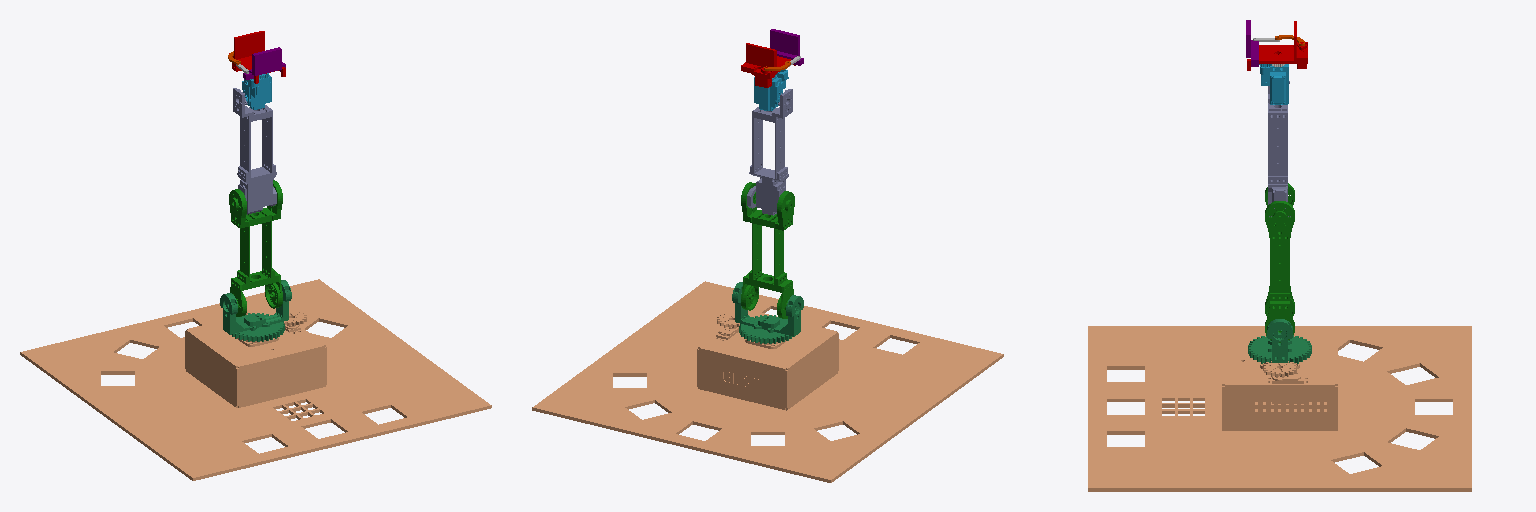
The robot description file, URDF, robot "Manip":
<?xml version="1.0" encoding="utf-8"?>
<!-- This URDF was automatically created by SolidWorks to URDF Exporter! Originally created by [author] ([email redacted]) 
     Commit Version: 1.5.1-0-g916b5db  Build Version: 1.5.7152.31018
     For more information, please see http://wiki.ros.org/sw_urdf_exporter -->
<robot
  name="Manip">
  <link
    name="base_link">
    <inertial>
      <origin
        xyz="-0.028965 0.014648 0.018056"
        rpy="0 0 0" />
      <mass
        value="10.281" />
      <inertia
        ixx="0.1796"
        ixy="-1.2096E-08"
        ixz="-1.3275E-05"
        iyy="0.37335"
        iyz="-1.3791E-06"
        izz="0.19457" />
    </inertial>
    <visual>
      <origin
        xyz="0 0 0"
        rpy="0 0 0" />
      <geometry>
        <mesh
          filename="package://Manip/meshes/base_link.STL" />
      </geometry>
      <material
        name="">
        <color
          rgba="0.8902 0.66667 0.50196 1" />
      </material>
    </visual>
    <collision>
      <origin
        xyz="0 0 0"
        rpy="0 0 0" />
      <geometry>
        <mesh
          filename="package://Manip/meshes/base_link.STL" />
      </geometry>
    </collision>
  </link>
  <link
    name="Joint_0">
    <inertial>
      <origin
        xyz="-0.000934 0.024546 -0.000934"
        rpy="0 0 0" />
      <mass
        value="0.63473" />
      <inertia
        ixx="0.00031172"
        ixy="-2.8505E-06"
        ixz="-0.00013487"
        iyy="0.00055107"
        iyz="-2.8505E-06"
        izz="0.00031172" />
    </inertial>
    <visual>
      <origin
        xyz="0 0 0"
        rpy="0 0 0" />
      <geometry>
        <mesh
          filename="package://Manip/meshes/Joint_0.STL" />
      </geometry>
      <material
        name="">
        <color
          rgba="0.18039 0.54118 0.34118 1" />
      </material>
    </visual>
    <collision>
      <origin
        xyz="0 0 0"
        rpy="0 0 0" />
      <geometry>
        <mesh
          filename="package://Manip/meshes/Joint_0.STL" />
      </geometry>
    </collision>
  </link>
  <joint
    name="Joint_0"
    type="revolute">
    <origin
      xyz="-0.030548 -0.017972 0.076858"
      rpy="1.5708 0 0.7854" />
    <parent
      link="base_link" />
    <child
      link="Joint_0" />
    <axis
      xyz="0 0 0" />
    <limit
      lower="0"
      upper="0"
      effort="0"
      velocity="0" />
  </joint>
  <link
    name="Joint_1">
    <inertial>
      <origin
        xyz="0.0805 0.033124 -4.8711E-15"
        rpy="0 0 0" />
      <mass
        value="0.54478" />
      <inertia
        ixx="9.408E-05"
        ixy="-4.8965E-19"
        ixz="-7.5425E-18"
        iyy="0.00020106"
        iyz="-4.0146E-20"
        izz="0.00020704" />
    </inertial>
    <visual>
      <origin
        xyz="0 0 0"
        rpy="0 0 0" />
      <geometry>
        <mesh
          filename="package://Manip/meshes/Joint_1.STL" />
      </geometry>
      <material
        name="">
        <color
          rgba="0.12941 0.54118 0.12941 1" />
      </material>
    </visual>
    <collision>
      <origin
        xyz="0 0 0"
        rpy="0 0 0" />
      <geometry>
        <mesh
          filename="package://Manip/meshes/Joint_1.STL" />
      </geometry>
    </collision>
  </link>
  <joint
    name="Joint_1"
    type="revolute">
    <origin
      xyz="0.024005 0.0597 0.024005"
      rpy="-0.7854 0 1.5708" />
    <parent
      link="Joint_0" />
    <child
      link="Joint_1" />
    <axis
      xyz="0 0 0" />
    <limit
      lower="0"
      upper="0"
      effort="0"
      velocity="0" />
  </joint>
  <link
    name="Joint_2">
    <inertial>
      <origin
        xyz="-0.03852 0.012612 0.00028682"
        rpy="0 0 0" />
      <mass
        value="0.66962" />
      <inertia
        ixx="0.00013342"
        ixy="-3.3499E-06"
        ixz="2.1416E-05"
        iyy="0.00032933"
        iyz="-3.4326E-06"
        izz="0.00026422" />
    </inertial>
    <visual>
      <origin
        xyz="0 0 0"
        rpy="0 0 0" />
      <geometry>
        <mesh
          filename="package://Manip/meshes/Joint_2.STL" />
      </geometry>
      <material
        name="">
        <color
          rgba="0.5098 0.52157 0.63922 1" />
      </material>
    </visual>
    <collision>
      <origin
        xyz="0 0 0"
        rpy="0 0 0" />
      <geometry>
        <mesh
          filename="package://Manip/meshes/Joint_2.STL" />
      </geometry>
    </collision>
  </link>
  <joint
    name="Joint_2"
    type="revolute">
    <origin
      xyz="0.17088 0.036825 -0.01"
      rpy="1.5708 0 3.1416" />
    <parent
      link="Joint_1" />
    <child
      link="Joint_2" />
    <axis
      xyz="0 0 0" />
    <limit
      lower="0"
      upper="0"
      effort="0"
      velocity="0" />
  </joint>
  <link
    name="Joint_3">
    <inertial>
      <origin
        xyz="0.002424 -0.006919 0.0073683"
        rpy="0 0 0" />
      <mass
        value="0.37409" />
      <inertia
        ixx="9.8668E-05"
        ixy="-1.3865E-06"
        ixz="5.0862E-06"
        iyy="7.8881E-05"
        iyz="7.0671E-07"
        izz="5.4051E-05" />
    </inertial>
    <visual>
      <origin
        xyz="0 0 0"
        rpy="0 0 0" />
      <geometry>
        <mesh
          filename="package://Manip/meshes/Joint_3.STL" />
      </geometry>
      <material
        name="">
        <color
          rgba="0.18431 0.62353 0.76471 1" />
      </material>
    </visual>
    <collision>
      <origin
        xyz="0 0 0"
        rpy="0 0 0" />
      <geometry>
        <mesh
          filename="package://Manip/meshes/Joint_3.STL" />
      </geometry>
    </collision>
  </link>
  <joint
    name="Joint_3"
    type="revolute">
    <origin
      xyz="-0.17527 0.0125 0.00445"
      rpy="1.5708 0 1.5708" />
    <parent
      link="Joint_2" />
    <child
      link="Joint_3" />
    <axis
      xyz="0 0 0" />
    <limit
      lower="0"
      upper="0"
      effort="0"
      velocity="0" />
  </joint>
  <link
    name="Joint_4">
    <inertial>
      <origin
        xyz="-1.249E-16 3.4694E-18 0.0025"
        rpy="0 0 0" />
      <mass
        value="0.0055526" />
      <inertia
        ixx="1.2773E-07"
        ixy="-2.4068E-22"
        ixz="-5.156E-21"
        iyy="1.2773E-07"
        iyz="2.9995E-22"
        izz="2.3232E-07" />
    </inertial>
    <visual>
      <origin
        xyz="0 0 0"
        rpy="0 0 0" />
      <geometry>
        <mesh
          filename="package://Manip/meshes/Joint_4.STL" />
      </geometry>
      <material
        name="">
        <color
          rgba="0.87843 0.87451 0.85882 1" />
      </material>
    </visual>
    <collision>
      <origin
        xyz="0 0 0"
        rpy="0 0 0" />
      <geometry>
        <mesh
          filename="package://Manip/meshes/Joint_4.STL" />
      </geometry>
    </collision>
  </link>
  <joint
    name="Joint_4"
    type="revolute">
    <origin
      xyz="0 -0.0075 -0.0175"
      rpy="3.1416 0 -1.5708" />
    <parent
      link="Joint_3" />
    <child
      link="Joint_4" />
    <axis
      xyz="0 0 0" />
    <limit
      lower="0"
      upper="0"
      effort="0"
      velocity="0" />
  </joint>
  <link
    name="gripper">
    <inertial>
      <origin
        xyz="-0.0014007 -0.00041743 0.012432"
        rpy="0 0 0" />
      <mass
        value="0.25253" />
      <inertia
        ixx="6.1541E-05"
        ixy="-1.0057E-06"
        ixz="-3.2368E-06"
        iyy="9.5516E-05"
        iyz="-5.8464E-07"
        izz="5.2584E-05" />
    </inertial>
    <visual>
      <origin
        xyz="0 0 0"
        rpy="0 0 0" />
      <geometry>
        <mesh
          filename="package://Manip/meshes/gripper.STL" />
      </geometry>
      <material
        name="">
        <color
          rgba="0.8 0 0 1" />
      </material>
    </visual>
    <collision>
      <origin
        xyz="0 0 0"
        rpy="0 0 0" />
      <geometry>
        <mesh
          filename="package://Manip/meshes/gripper.STL" />
      </geometry>
    </collision>
  </link>
  <joint
    name="gripper"
    type="revolute">
    <origin
      xyz="0 0 0.017"
      rpy="-1.5708 0 0" />
    <parent
      link="Joint_4" />
    <child
      link="gripper" />
    <axis
      xyz="0 0 0" />
    <limit
      lower="0"
      upper="0"
      effort="0"
      velocity="0" />
  </joint>
  <link
    name="GR_Joint_0">
    <inertial>
      <origin
        xyz="-0.0061104 0.0015 -0.018"
        rpy="0 0 0" />
      <mass
        value="0.0073334" />
      <inertia
        ixx="1.1684E-06"
        ixy="6.035E-21"
        ixz="2.3558E-21"
        iyy="1.3047E-06"
        iyz="2.9541E-20"
        izz="1.4727E-07" />
    </inertial>
    <visual>
      <origin
        xyz="0 0 0"
        rpy="0 0 0" />
      <geometry>
        <mesh
          filename="package://Manip/meshes/GR_Joint_0.STL" />
      </geometry>
      <material
        name="">
        <color
          rgba="0.81176 0.3098 0 1" />
      </material>
    </visual>
    <collision>
      <origin
        xyz="0 0 0"
        rpy="0 0 0" />
      <geometry>
        <mesh
          filename="package://Manip/meshes/GR_Joint_0.STL" />
      </geometry>
    </collision>
  </link>
  <joint
    name="GR_Joint_0"
    type="revolute">
    <origin
      xyz="-0.014116 -0.00755 0.031158"
      rpy="0 0.52343 0" />
    <parent
      link="gripper" />
    <child
      link="GR_Joint_0" />
    <axis
      xyz="0 0 0" />
    <limit
      lower="0"
      upper="0"
      effort="0"
      velocity="0" />
  </joint>
  <link
    name="GR_Joint_1">
    <inertial>
      <origin
        xyz="6.9389E-17 0.0015 -6.9389E-17"
        rpy="0 0 0" />
      <mass
        value="0.0042855" />
      <inertia
        ixx="3.6183E-07"
        ixy="5.5972E-22"
        ixz="6.5968E-23"
        iyy="3.7215E-07"
        iyz="1.3875E-21"
        izz="1.6751E-08" />
    </inertial>
    <visual>
      <origin
        xyz="0 0 0"
        rpy="0 0 0" />
      <geometry>
        <mesh
          filename="package://Manip/meshes/GR_Joint_1.STL" />
      </geometry>
      <material
        name="">
        <color
          rgba="0.74902 0.74902 0.74902 1" />
      </material>
    </visual>
    <collision>
      <origin
        xyz="0 0 0"
        rpy="0 0 0" />
      <geometry>
        <mesh
          filename="package://Manip/meshes/GR_Joint_1.STL" />
      </geometry>
    </collision>
  </link>
  <joint
    name="GR_Joint_1"
    type="revolute">
    <origin
      xyz="0.006999 0.003 -0.049267"
      rpy="0 -0.48544 0" />
    <parent
      link="GR_Joint_0" />
    <child
      link="GR_Joint_1" />
    <axis
      xyz="0 0 0" />
    <limit
      lower="0"
      upper="0"
      effort="0"
      velocity="0" />
  </joint>
  <link
    name="GR_Joint_3">
    <inertial>
      <origin
        xyz="-0.0015448 -0.014487 0.0057276"
        rpy="0 0 0" />
      <mass
        value="0.10764" />
      <inertia
        ixx="4.0275E-05"
        ixy="-2.8273E-06"
        ixz="-3.3649E-07"
        iyy="2.8641E-05"
        iyz="-1.0631E-06"
        izz="1.5489E-05" />
    </inertial>
    <visual>
      <origin
        xyz="0 0 0"
        rpy="0 0 0" />
      <geometry>
        <mesh
          filename="package://Manip/meshes/GR_Joint_3.STL" />
      </geometry>
      <material
        name="">
        <color
          rgba="0.50196 0 0.50196 1" />
      </material>
    </visual>
    <collision>
      <origin
        xyz="0 0 0"
        rpy="0 0 0" />
      <geometry>
        <mesh
          filename="package://Manip/meshes/GR_Joint_3.STL" />
      </geometry>
    </collision>
  </link>
  <joint
    name="GR_Joint_3"
    type="prismatic">
    <origin
      xyz="0.033416 0.00655 -0.018734"
      rpy="3.1416 -1.5328 3.1416" />
    <parent
      link="GR_Joint_1" />
    <child
      link="GR_Joint_3" />
    <axis
      xyz="0 0 0" />
    <limit
      lower="0"
      upper="0"
      effort="0"
      velocity="0" />
  </joint>
</robot>

--- Facts derived from the render (not from the file) ---
Views: 3 orthographic renders of the robot side by side, from view 1: azimuth 30°, elevation 25°; view 2: azimuth 150°, elevation 25°; view 3: azimuth 270°, elevation 25°.
Model Manip with 10 links and 9 joints (8 revolute, 1 prismatic), rooted at base_link, posed all joints at 0.
Links seen in each view (by area): view 1: base_link, Joint_1, Joint_2, Joint_0, gripper, Joint_3, GR_Joint_3; view 2: base_link, Joint_1, Joint_2, Joint_0, gripper, Joint_3, GR_Joint_3; view 3: base_link, Joint_1, Joint_2, Joint_0, gripper, Joint_3.
Link boxes in pixels (x1,y1,x2,y2): base_link: [20, 279, 491, 480]; Joint_1: [229, 180, 282, 316]; Joint_2: [233, 88, 276, 214]; Joint_0: [220, 280, 291, 341]; gripper: [229, 31, 285, 83]; Joint_3: [242, 73, 271, 109]; GR_Joint_3: [243, 47, 285, 79]; base_link: [532, 281, 1003, 482]; Joint_1: [741, 182, 794, 318]; Joint_2: [747, 89, 792, 215]; Joint_0: [732, 282, 803, 343]; gripper: [741, 43, 795, 87]; Joint_3: [754, 69, 788, 110]; GR_Joint_3: [770, 29, 803, 65]; base_link: [1088, 326, 1471, 491]; Joint_1: [1265, 183, 1294, 342]; Joint_2: [1268, 81, 1290, 216]; Joint_0: [1248, 319, 1311, 363]; gripper: [1247, 21, 1307, 70]; Joint_3: [1259, 64, 1288, 104].
Size in the robot's own frame: 0.5 by 0.5 by 0.5474 metres.
Meshes: 10 distinct files referenced, 10 mesh visuals loaded (10 binary STL).